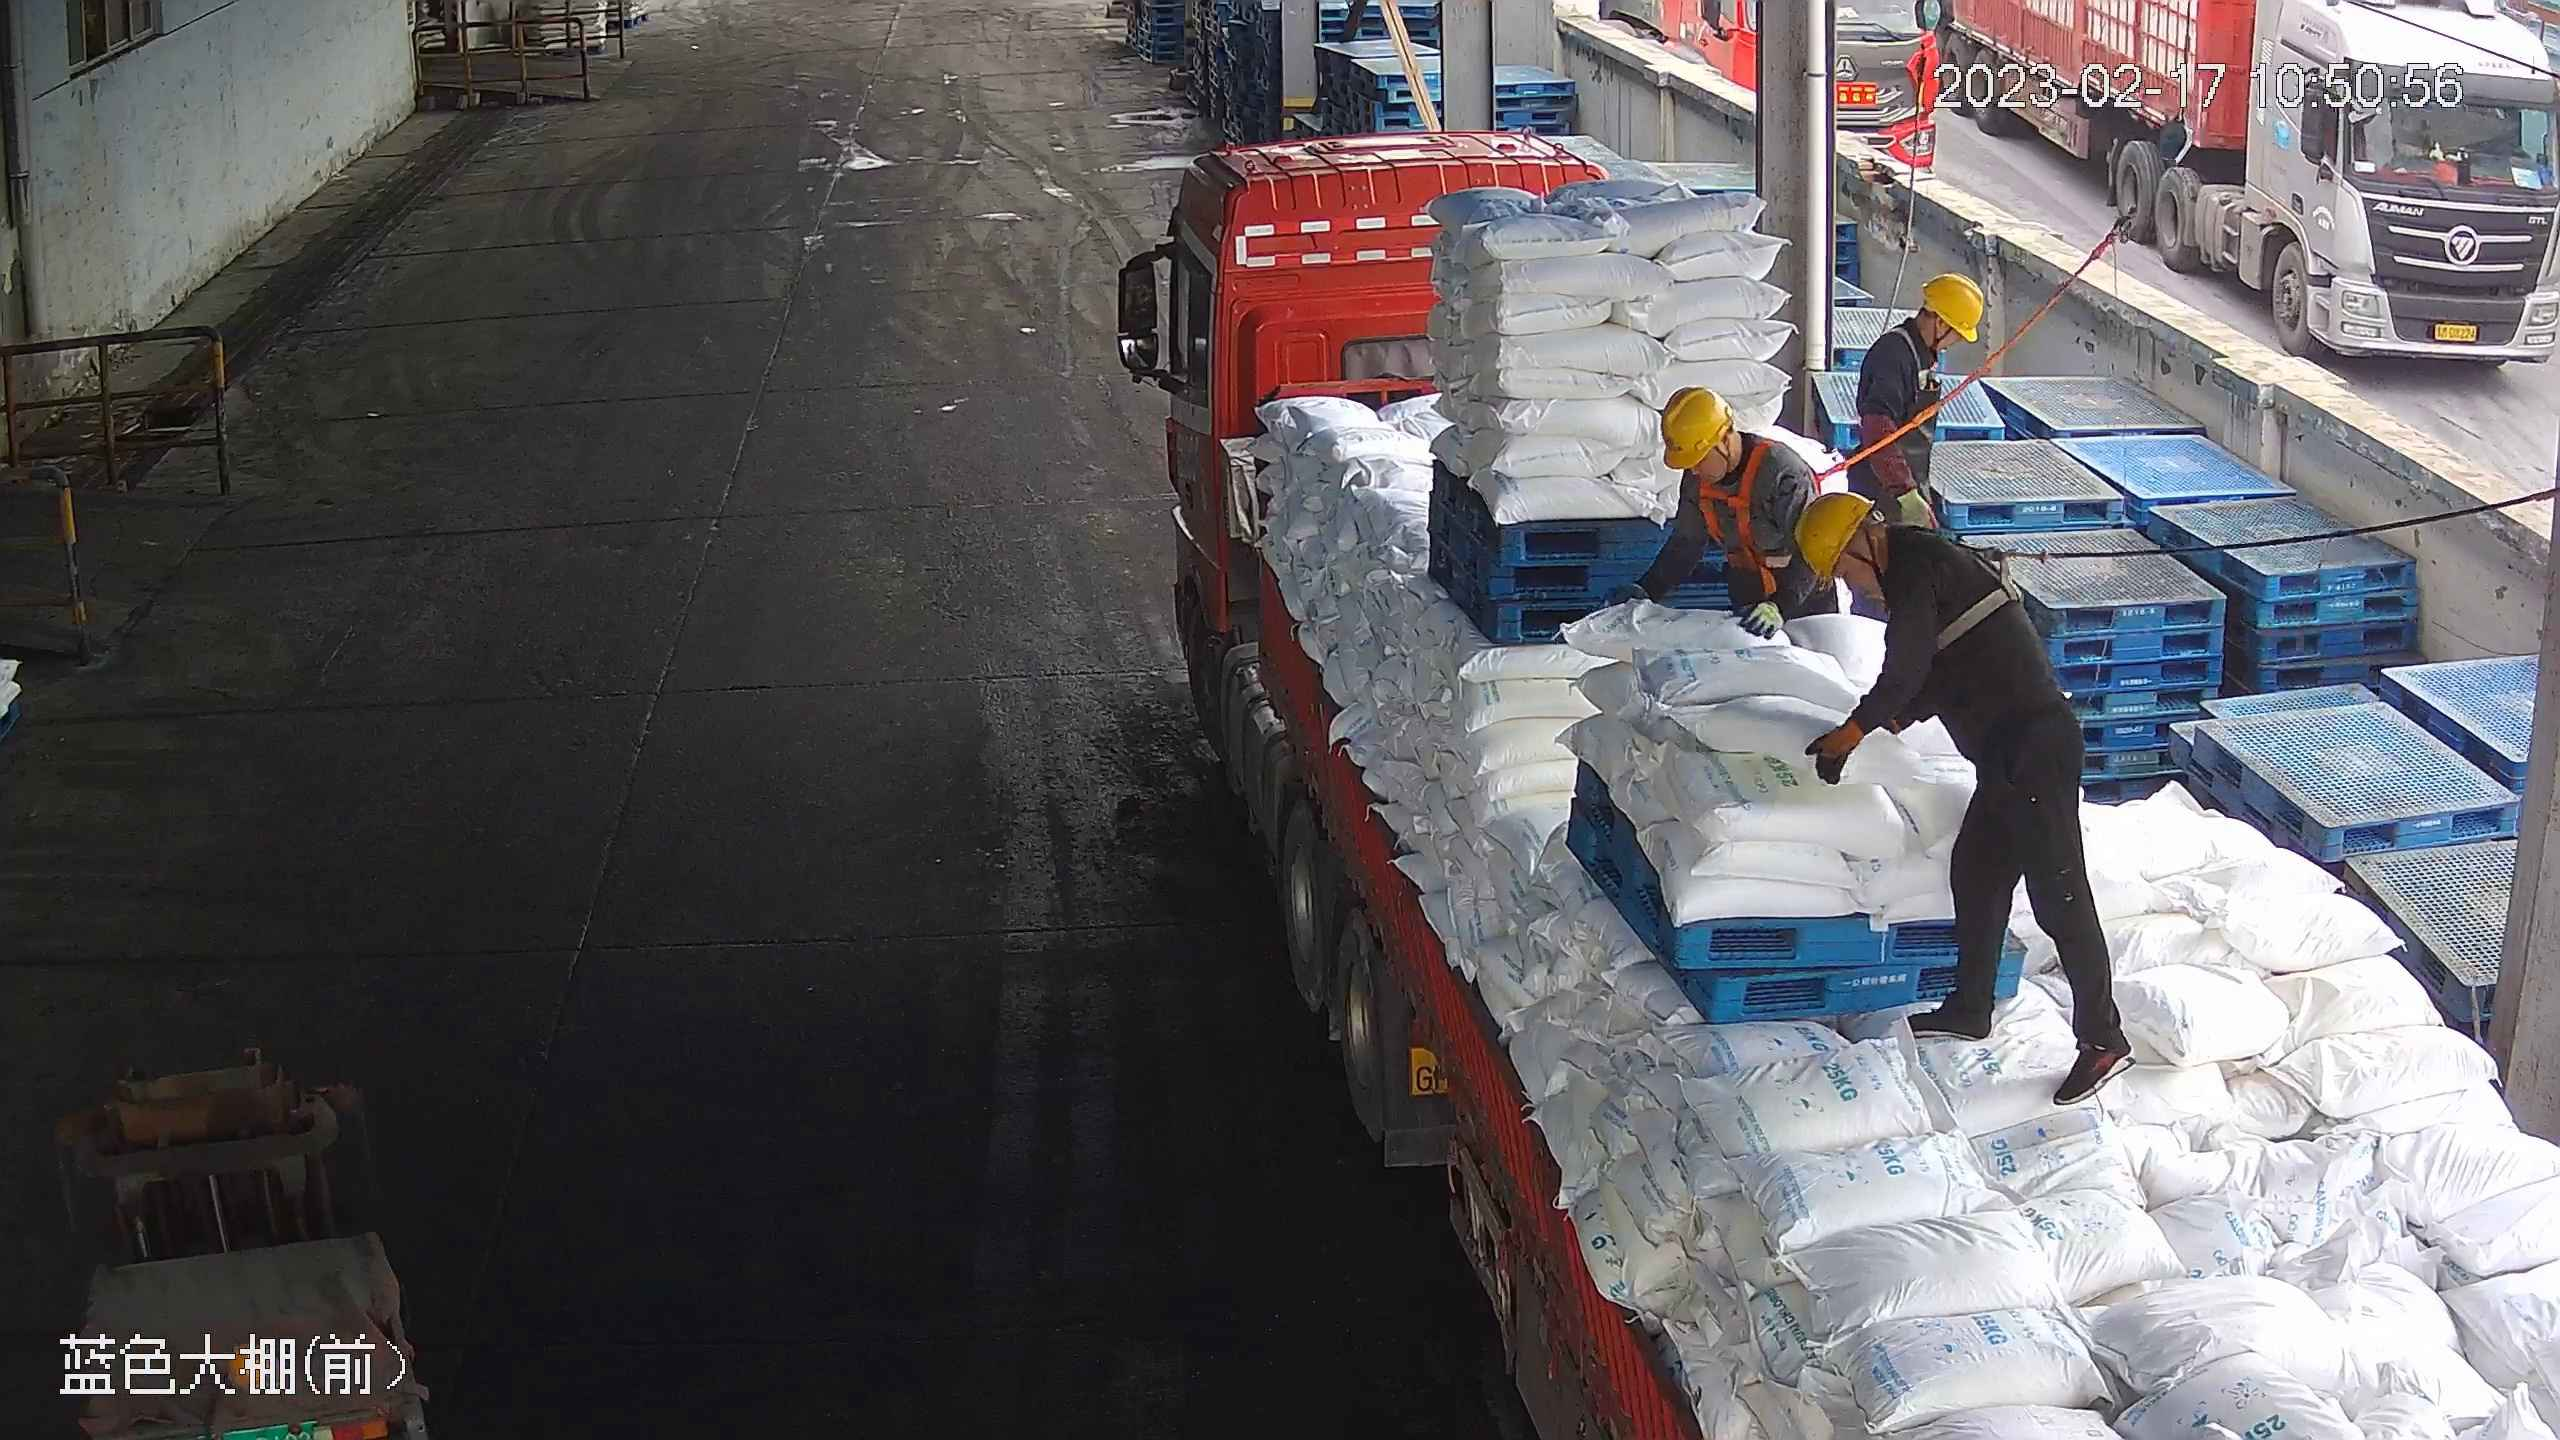belt: (1895, 521, 2046, 659), (1700, 427, 1828, 575), (1883, 320, 1954, 389)
head: (1791, 486, 1980, 618), (1657, 384, 1807, 519), (1858, 269, 1983, 392)
helmet: (1794, 488, 1874, 587), (1658, 385, 1734, 469), (1919, 268, 1982, 339)
people: (1795, 483, 2135, 1093), (1638, 385, 1858, 645), (1850, 270, 1983, 540)
truck: (1120, 137, 2555, 1436), (1958, 1, 2551, 401)
